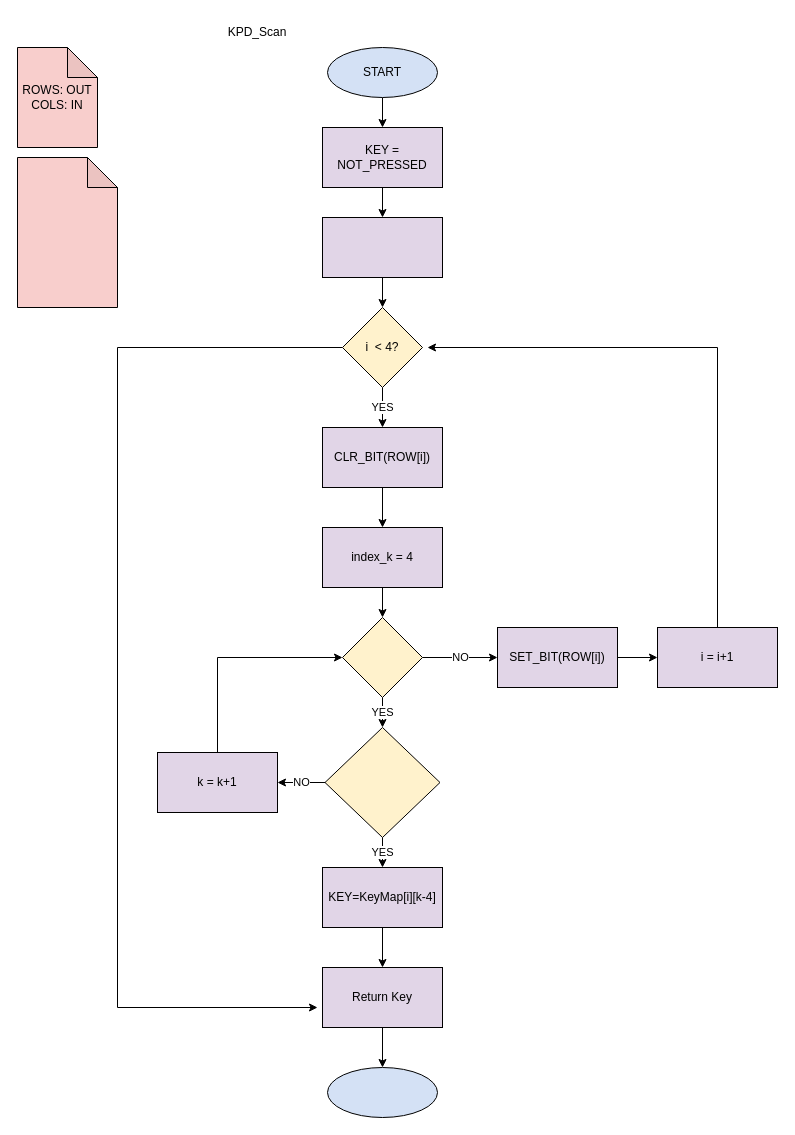
Image size: 795x1135. Some labels were removed from this diagram. The shapes that lost their labels are listed below. From the top down, each one's centre as x and y in pixels, then its label:
At pixel 67 232: "ROWS & COLS ON SAME PORT ROW- 0:3 COLS- 4:7".
At pixel 382 247: "i= 0".
At pixel 382 657: "k < 8?".
At pixel 382 782: "READ_BIT (KPD_PIN,k)==0".
At pixel 382 1092: "END".
